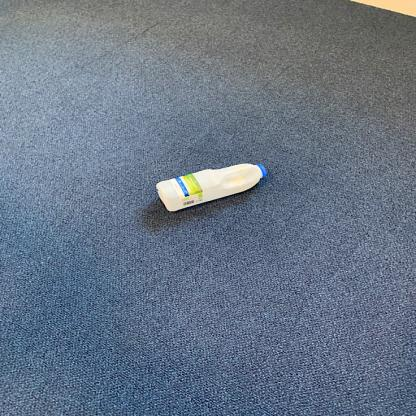trash: (147, 161, 271, 217)
